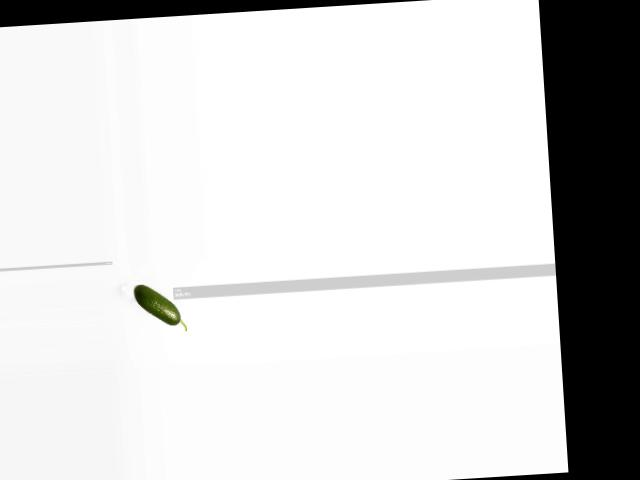cucumber: (134, 281, 188, 333)
